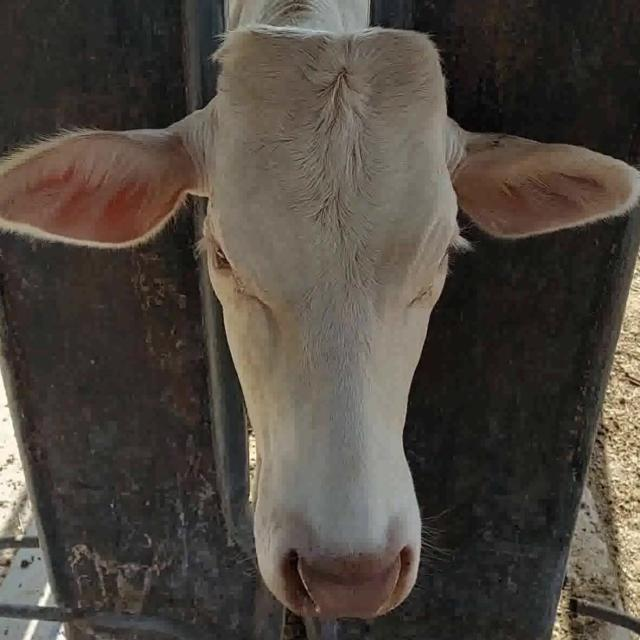cowFace: (205, 28, 458, 616)
